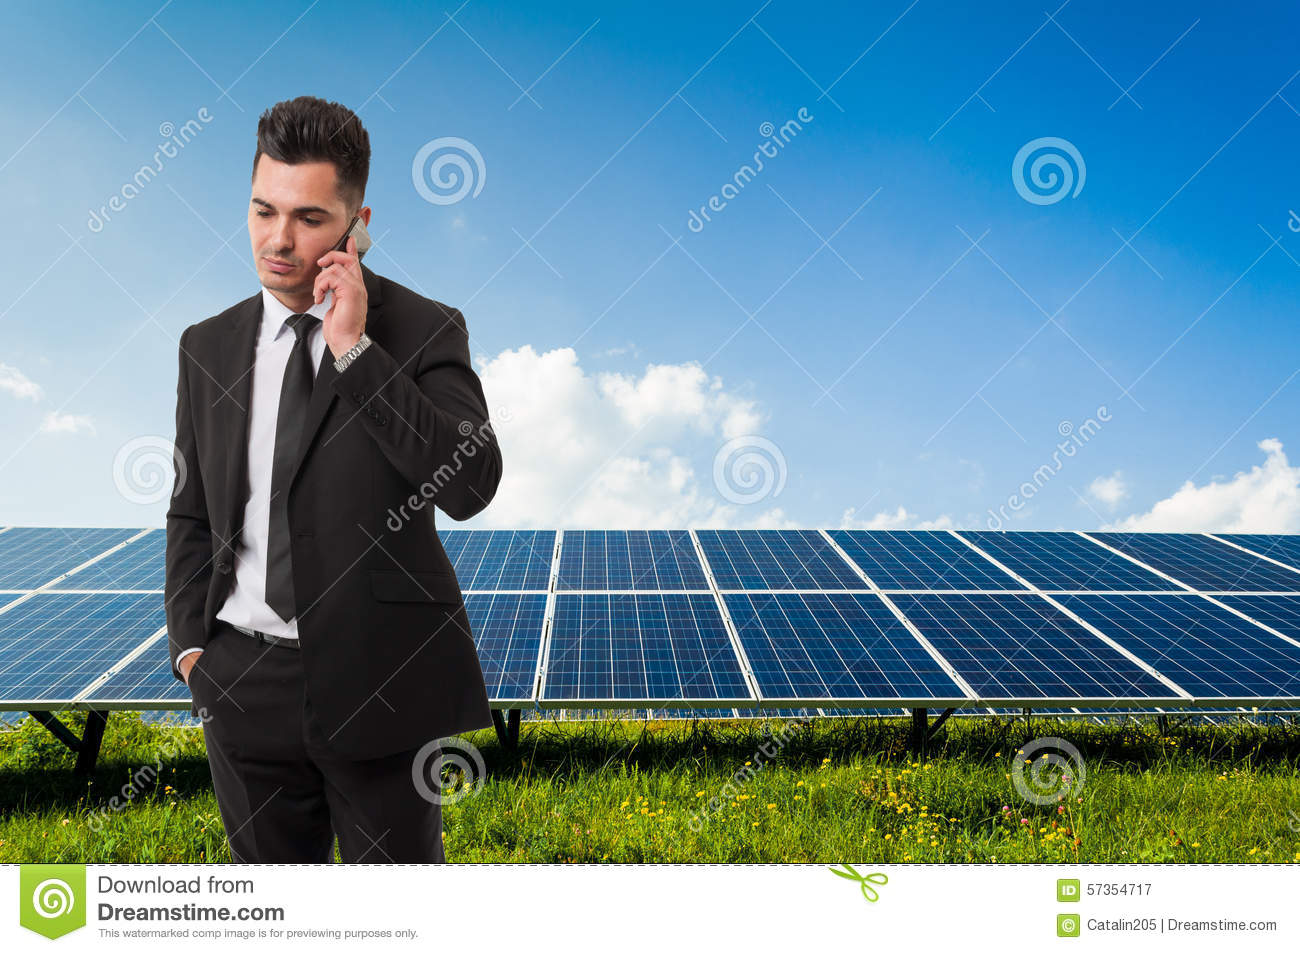phone: (318, 218, 374, 292)
talk: (250, 189, 378, 342)
